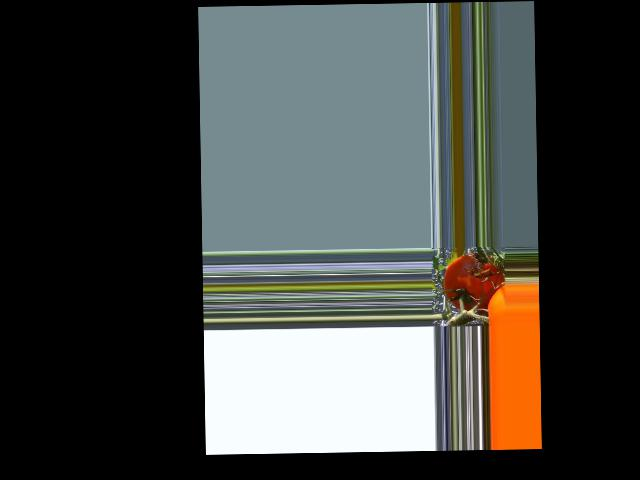tomato: (443, 253, 504, 311)
